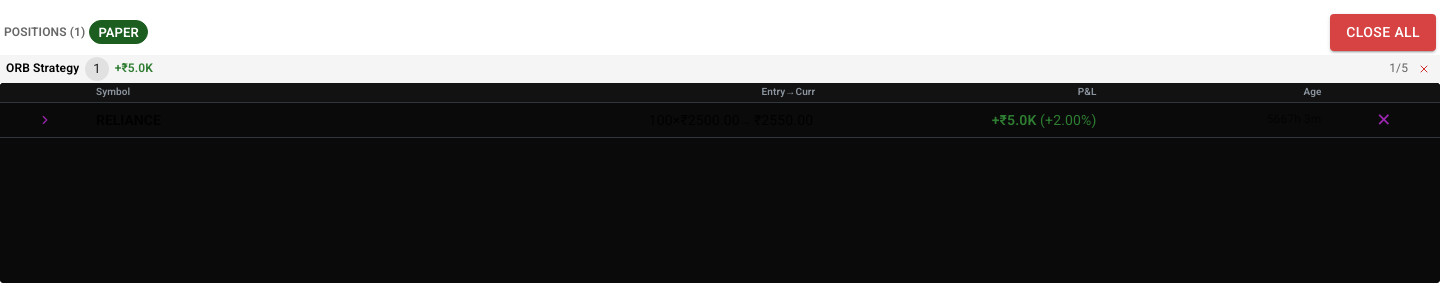
Scenario: PaperPositionsTable › CloseAll button loading and error › closeAllPositions loading state shows loading indicator
This screenshot has width=1440, height=300.
Check: the text "Closing..." is not shown
Click the button with test id "close-all-positions": (1383, 32) [1330,14,1436,50]
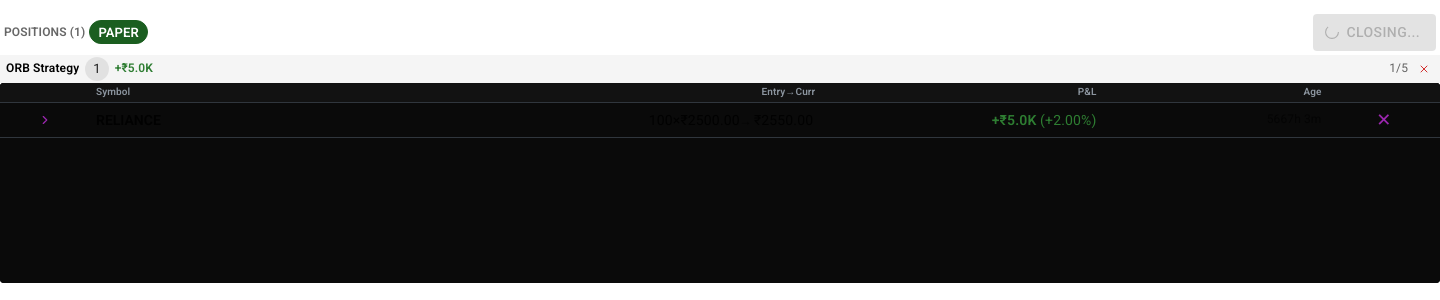
Check: the button "Closing..." is shown, box [1312,14,1436,50]
